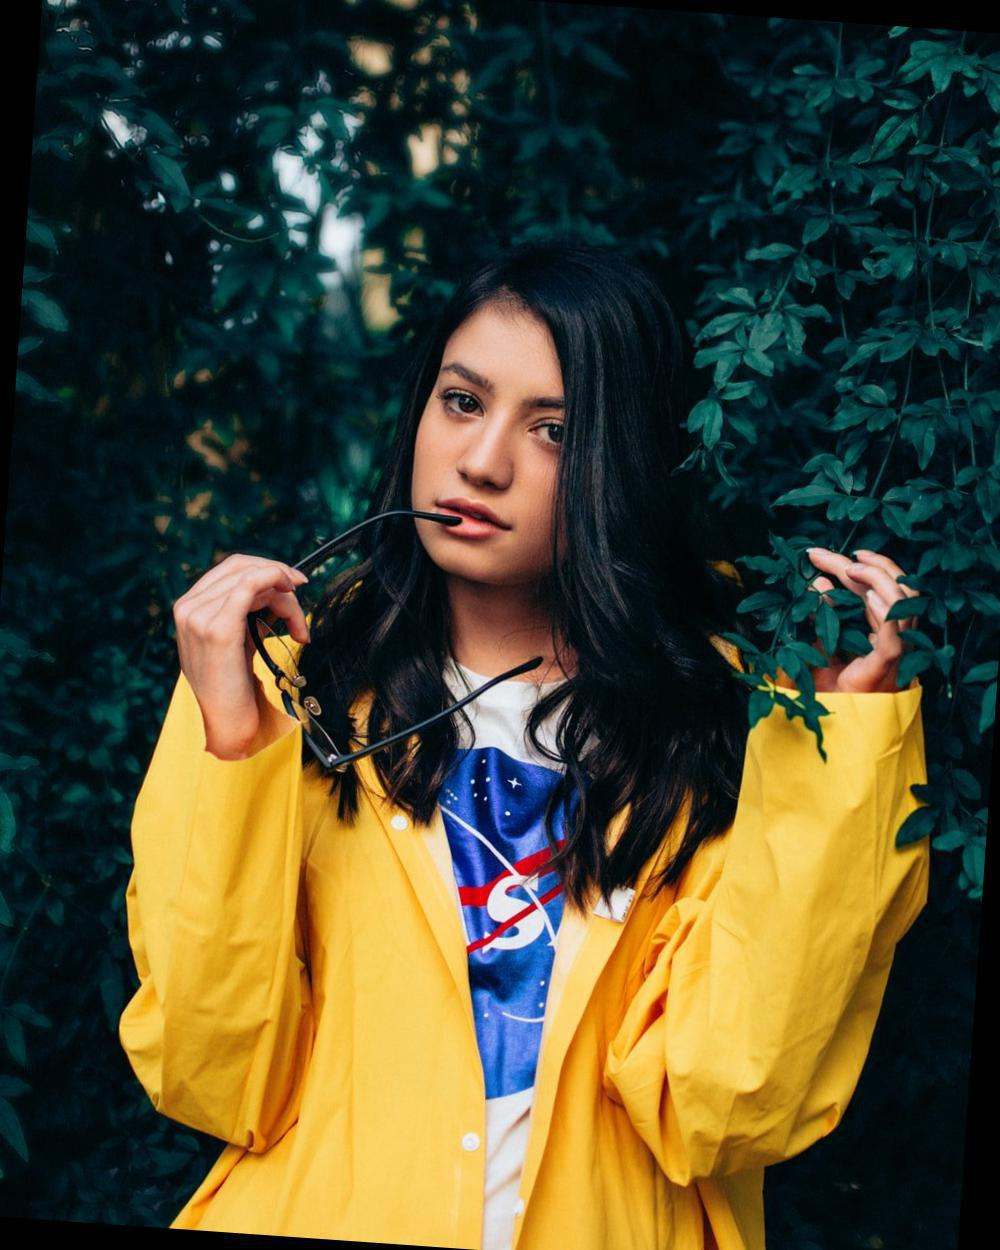Sober: (411, 313, 591, 573)
